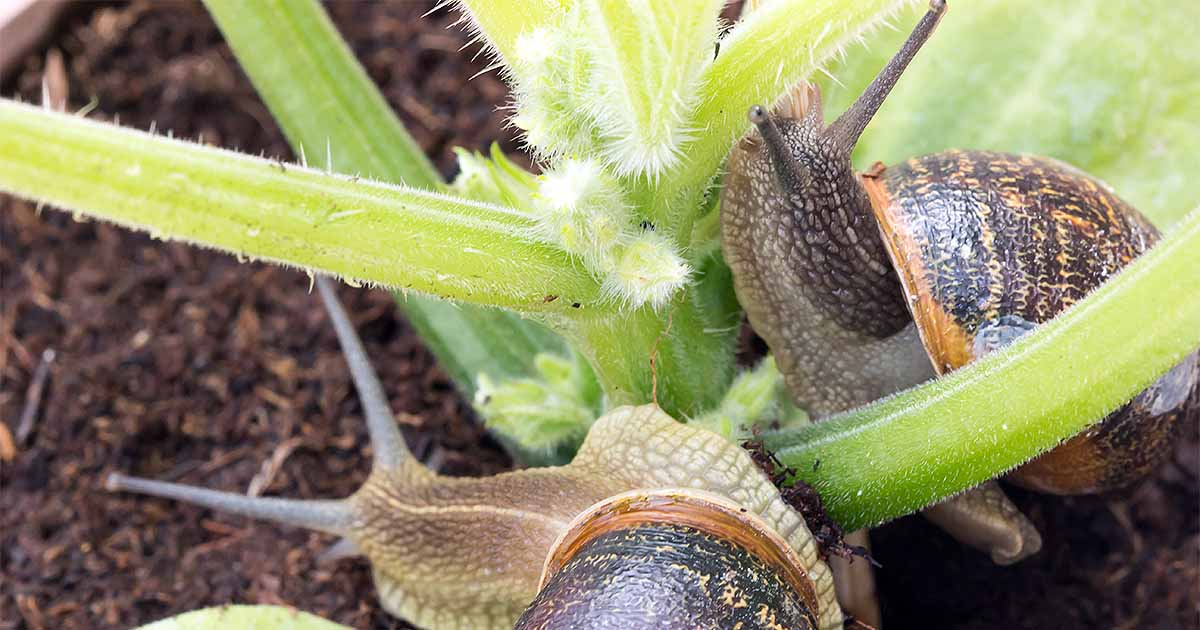snail: (118, 262, 845, 628), (710, 65, 1198, 561)
